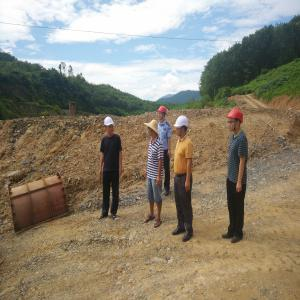none: (148, 120, 160, 139)
red: (227, 109, 245, 136), (158, 107, 168, 123)
white: (175, 116, 190, 139), (105, 117, 116, 136)
